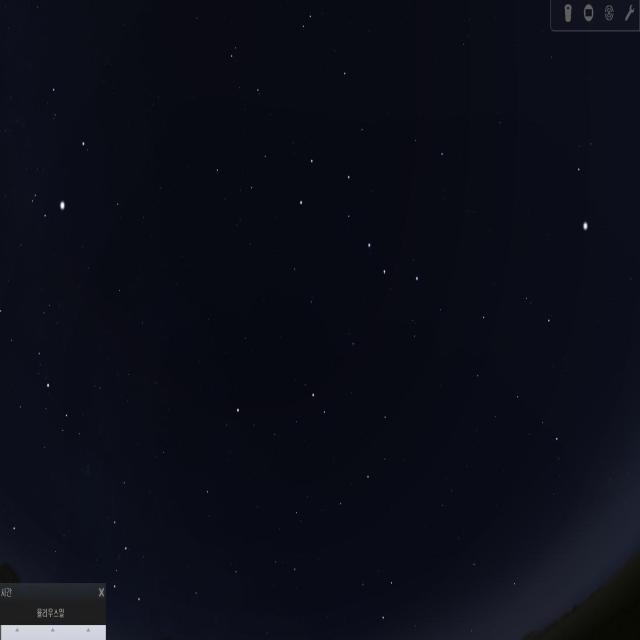cassiopeia: (102, 472, 152, 624)
ursa_major: (298, 155, 421, 294)
